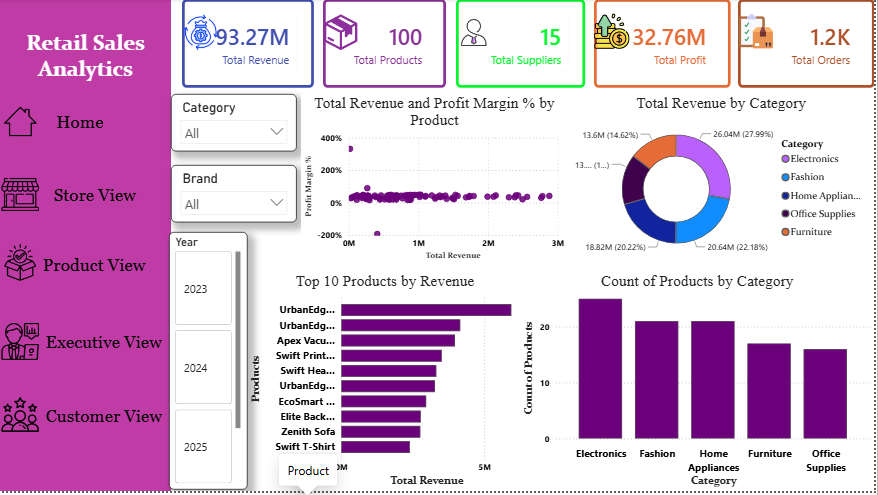

What the dashboard file says about the page in this screenshot:
{"tool":"powerbi","page":{"name":"Product","canvas":[1280,720],"ordinal":2},"visuals":[{"type":"shape","box":[0,0,250,721.4],"z":0},{"type":"actionButton","box":[17.4,13.1,215.5,139.3],"z":1000},{"type":"actionButton","box":[69.7,152.4,93.6,54.4],"z":2000},{"type":"actionButton","box":[69.7,259,137.1,54.4],"z":3000},{"type":"actionButton","box":[58.8,361.4,158.9,54.4],"z":4000},{"type":"actionButton","box":[54.4,474.6,195.9,54.4],"z":5000},{"type":"actionButton","box":[54.4,583.4,195.9,52.2],"z":6000},{"type":"image","box":[6.5,152.4,47.9,54.4],"z":7000},{"type":"image","box":[0,259,58.8,54.4],"z":8000},{"type":"image","box":[0,359.2,58.8,54.4],"z":9000},{"type":"image","box":[0,474.6,58.8,54.4],"z":10000},{"type":"image","box":[0,581.2,58.8,54.4],"z":11000},{"type":"cardVisual","fields":{"Data":["SalesTable.Total Revenue"]},"box":[266.1,0,192.9,130.4],"z":12000},{"type":"cardVisual","fields":{"Data":["Count(ProductsTable.ProductID)"]},"box":[473.2,0,180.4,130.4],"z":13000},{"type":"cardVisual","fields":{"Data":["Count(ProductsTable.Supplier)"]},"box":[667.9,0,189.3,130.4],"z":14000},{"type":"cardVisual","fields":{"Data":["Sum(SalesTable.Profit)"]},"box":[869.6,0,200,130.4],"z":15000},{"type":"cardVisual","fields":{"Data":["CountNonNull(SalesTable.OrderID)"]},"box":[1080,0,200,130.4],"z":16000},{"type":"image","box":[267.9,14.3,51.8,67.9],"z":17000},{"type":"image","box":[473.2,14.3,51.8,67.9],"z":18000},{"type":"image","box":[1080.4,12.5,51.8,67.9],"z":19000},{"type":"image","box":[869.6,12.5,51.8,67.9],"z":20000},{"type":"image","box":[667.9,14.3,51.8,67.9],"z":21000},{"type":"slicer","fields":{"Values":["ProductsTable.Category"]},"box":[250,139.3,183.9,83.9],"z":22000},{"type":"slicer","fields":{"Values":["ProductsTable.Brand"]},"box":[250,242.9,183.9,83.9],"z":23000},{"type":"barChart","title":"Top 10 Products by Revenue","fields":{"Category":["ProductsTable.ProductName.1"],"Y":["SalesTable.Total Revenue"]},"box":[361.7,400,404.3,319.1],"z":24000},{"type":"advancedSlicerVisual","fields":{"Values":["Date.Year"]},"box":[247.9,341.7,114.6,377.1],"z":25000},{"type":"clusteredColumnChart","title":"Count of Products by Category","fields":{"Category":["ProductsTable.Category"],"Y":["CountNonNull(ProductsTable.ProductName.1)"]},"box":[760.4,400,518.8,318.8],"z":26000},{"type":"donutChart","fields":{"Category":["ProductsTable.Category"],"Y":["SalesTable.Total Revenue"]},"box":[831.9,138.3,448.9,253.2],"z":27000},{"type":"scatterChart","title":"Total Revenue and Profit Margin % by Product","fields":{"X":["SalesTable.Total Revenue"],"Category":["ProductsTable.ProductID"],"Y":["SalesTable.Profit Margin %"]},"box":[440.5,139,390.7,247.3],"z":28000}]}

Visuals, with their boxes in screenshot pixels (x1, y1, x2, y2), scaled from the page's 1280x720 canvas onto the 878x495 screenshot:
shape: {"x1": 0, "y1": 0, "x2": 171, "y2": 494}
actionButton: {"x1": 12, "y1": 9, "x2": 160, "y2": 105}
actionButton: {"x1": 48, "y1": 105, "x2": 112, "y2": 142}
actionButton: {"x1": 48, "y1": 178, "x2": 142, "y2": 215}
actionButton: {"x1": 40, "y1": 248, "x2": 149, "y2": 286}
actionButton: {"x1": 37, "y1": 326, "x2": 172, "y2": 364}
actionButton: {"x1": 37, "y1": 401, "x2": 172, "y2": 437}
image: {"x1": 4, "y1": 105, "x2": 37, "y2": 142}
image: {"x1": 0, "y1": 178, "x2": 40, "y2": 215}
image: {"x1": 0, "y1": 247, "x2": 40, "y2": 284}
image: {"x1": 0, "y1": 326, "x2": 40, "y2": 364}
image: {"x1": 0, "y1": 400, "x2": 40, "y2": 437}
cardVisual - SalesTable.Total Revenue: {"x1": 183, "y1": 0, "x2": 315, "y2": 90}
cardVisual - Count(ProductsTable.ProductID): {"x1": 325, "y1": 0, "x2": 448, "y2": 90}
cardVisual - Count(ProductsTable.Supplier): {"x1": 458, "y1": 0, "x2": 588, "y2": 90}
cardVisual - Sum(SalesTable.Profit): {"x1": 596, "y1": 0, "x2": 734, "y2": 90}
cardVisual - CountNonNull(SalesTable.OrderID): {"x1": 741, "y1": 0, "x2": 877, "y2": 90}
image: {"x1": 184, "y1": 10, "x2": 219, "y2": 57}
image: {"x1": 325, "y1": 10, "x2": 360, "y2": 57}
image: {"x1": 741, "y1": 9, "x2": 777, "y2": 55}
image: {"x1": 596, "y1": 9, "x2": 632, "y2": 55}
image: {"x1": 458, "y1": 10, "x2": 494, "y2": 57}
slicer - ProductsTable.Category: {"x1": 171, "y1": 96, "x2": 298, "y2": 153}
slicer - ProductsTable.Brand: {"x1": 171, "y1": 167, "x2": 298, "y2": 225}
"Top 10 Products by Revenue" barChart: {"x1": 248, "y1": 275, "x2": 525, "y2": 494}
advancedSlicerVisual - Date.Year: {"x1": 170, "y1": 235, "x2": 249, "y2": 494}
"Count of Products by Category" clusteredColumnChart: {"x1": 522, "y1": 275, "x2": 877, "y2": 494}
donutChart - ProductsTable.Category x SalesTable.Total Revenue: {"x1": 571, "y1": 95, "x2": 877, "y2": 269}
"Total Revenue and Profit Margin % by Product" scatterChart: {"x1": 302, "y1": 96, "x2": 570, "y2": 266}
